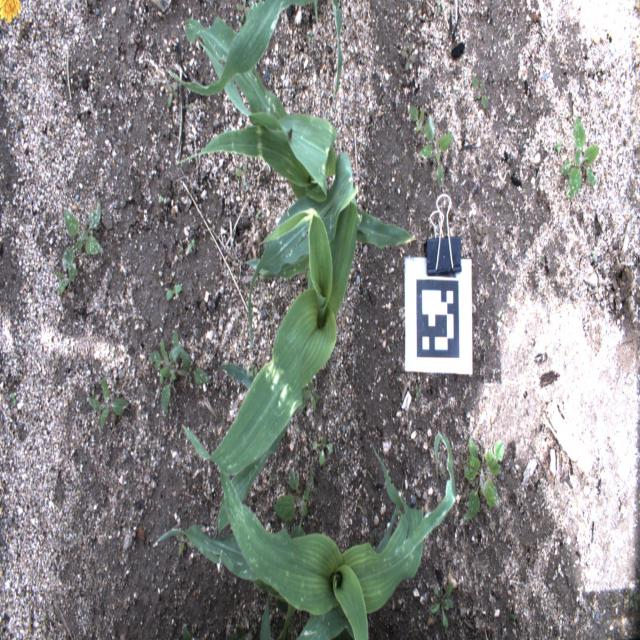crop: (182, 151, 360, 539), (152, 432, 456, 638), (175, 13, 415, 246), (168, 0, 342, 103), (259, 592, 274, 640), (182, 624, 192, 639)
weed: (150, 331, 192, 414), (274, 466, 314, 551), (463, 436, 503, 521), (560, 117, 600, 198), (62, 198, 102, 271), (419, 115, 453, 191), (88, 375, 128, 429), (430, 582, 454, 628), (410, 105, 432, 141), (298, 379, 320, 410), (177, 367, 211, 386), (313, 436, 333, 468), (57, 263, 76, 296), (230, 615, 256, 639), (472, 76, 488, 111), (400, 41, 416, 70), (177, 534, 193, 556), (236, 0, 249, 23), (167, 80, 178, 106), (628, 588, 640, 610), (166, 285, 182, 301), (236, 160, 248, 178), (248, 363, 258, 377), (555, 140, 562, 155), (188, 238, 195, 250), (10, 392, 16, 404), (436, 1, 441, 14), (255, 209, 261, 219), (185, 104, 192, 112), (415, 385, 419, 398), (308, 31, 312, 43), (591, 248, 595, 260), (158, 196, 164, 202), (566, 551, 570, 558)
